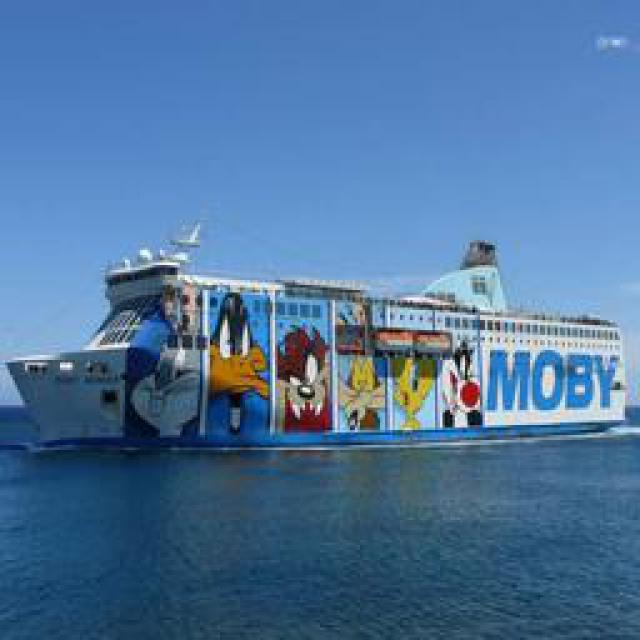Ship: (3, 199, 634, 464)
